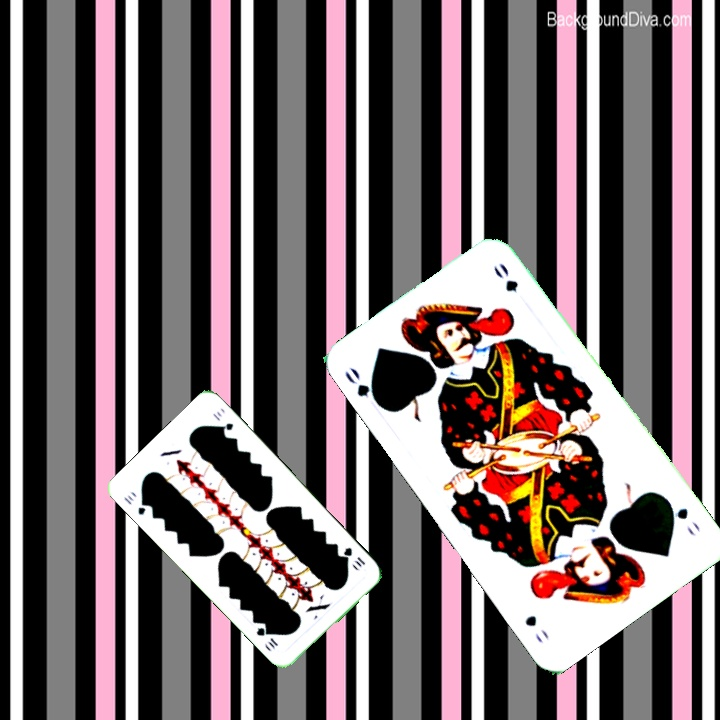G10: (119, 491, 150, 517), (339, 543, 368, 569)
GO: (340, 363, 386, 412), (661, 494, 703, 540)
